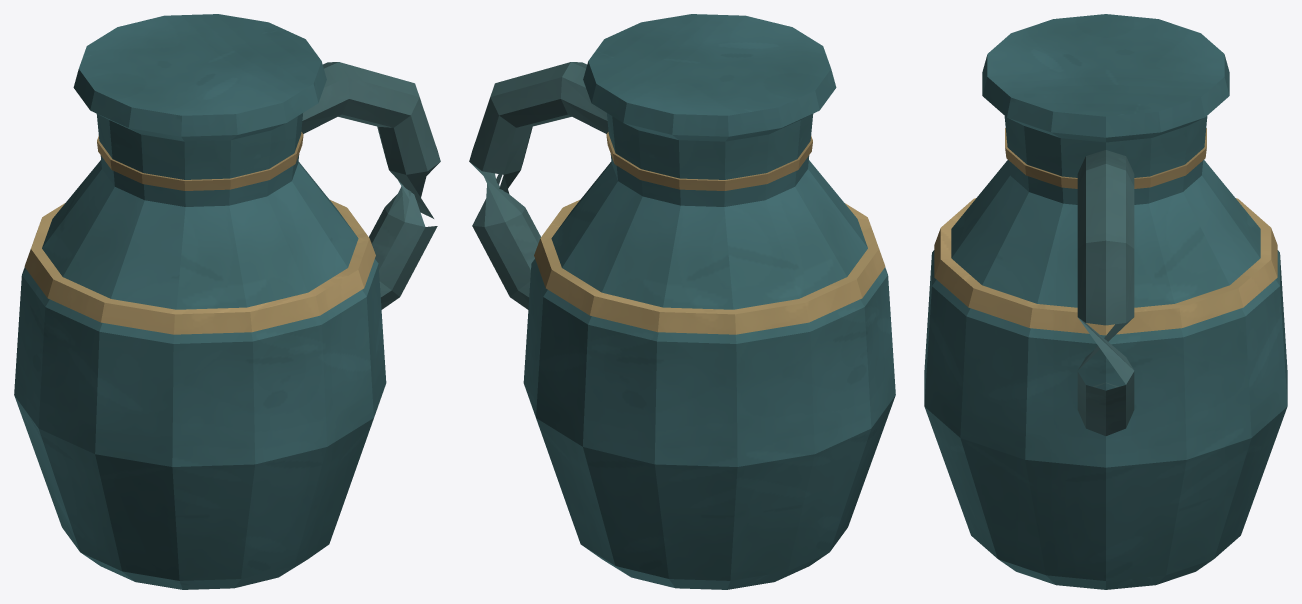
File: measuring_jug.gltf
3 renders of one model, left to right at view 1: azimuth 30°, elevation 25°; view 2: azimuth 150°, elevation 25°; view 3: azimuth 270°, elevation 25°, orthographic.
Visible parts, largest first — view 1: measuring_jug; view 2: measuring_jug; view 3: measuring_jug.
Boxes of the visible parts, x1,y1,x2,y2 form: measuring_jug: [14, 14, 440, 589]; measuring_jug: [469, 14, 895, 589]; measuring_jug: [924, 14, 1287, 589].
Bounding box in the file's own units: 0.3558 × 0.406 × 0.2808.
4 materials, 4 textured.
